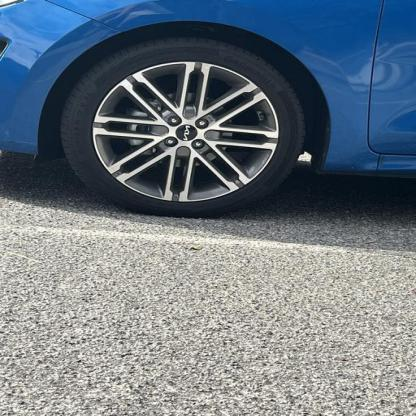Tire: (61, 41, 308, 218)
